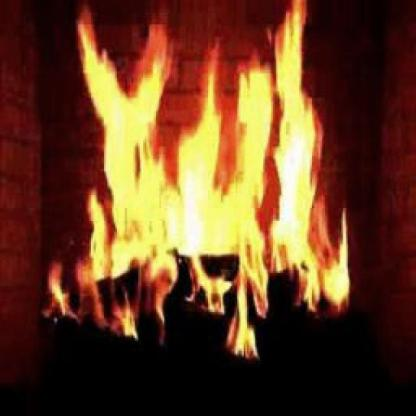fire: (34, 0, 360, 371)
